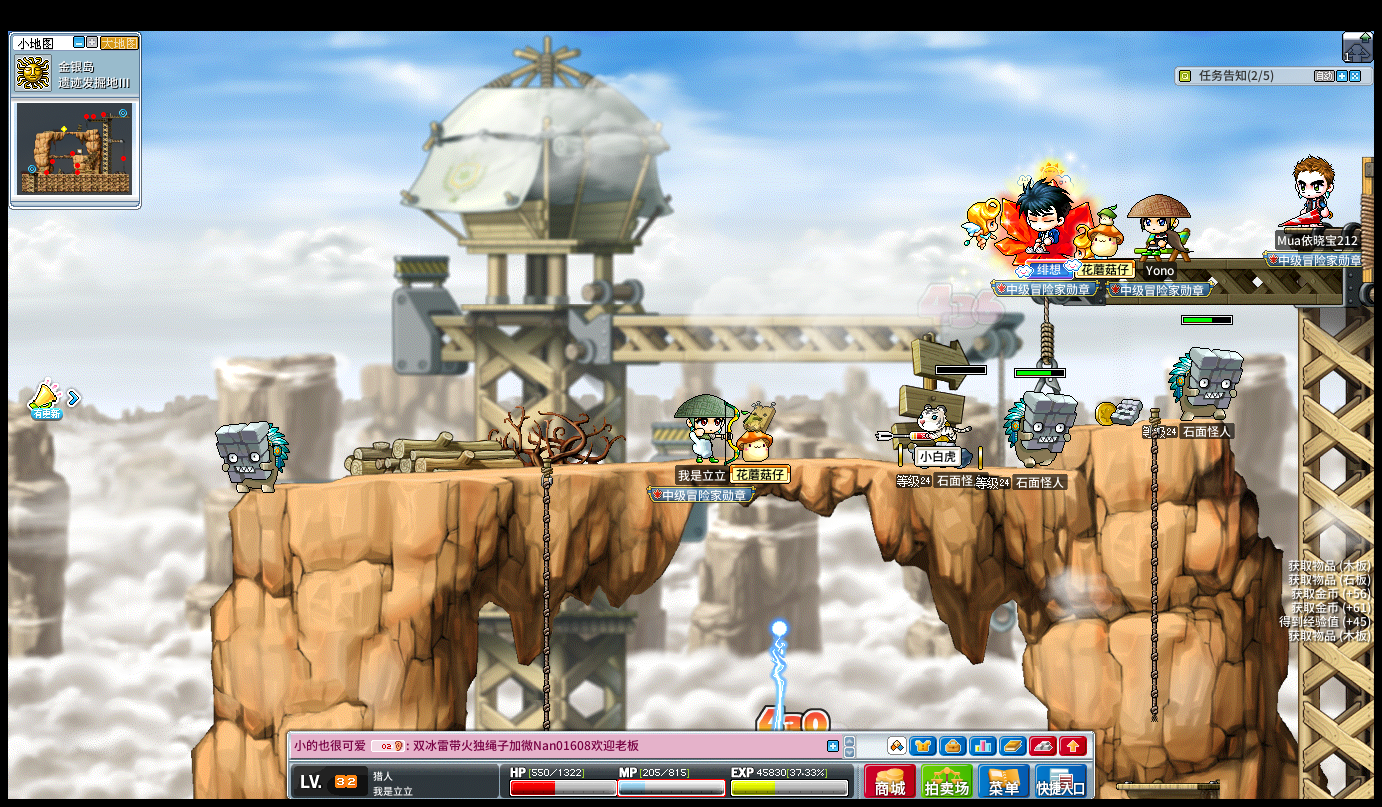floor: (240, 454, 1145, 485), (1097, 416, 1237, 430)
monster: (214, 420, 290, 497), (1003, 390, 1076, 468), (1167, 345, 1242, 419)
rope: (1146, 413, 1160, 722), (538, 451, 551, 740), (540, 451, 552, 672), (1041, 297, 1052, 371)
